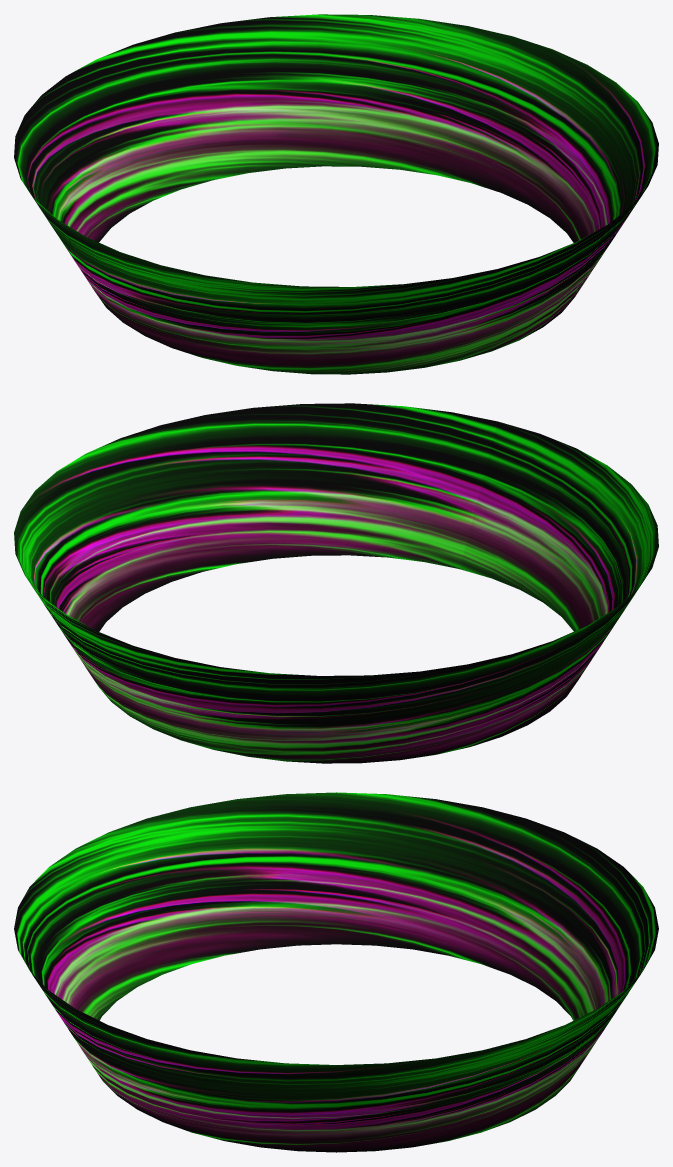
Rendered from Andrius_WindRange.fbx.
3 renders of one model, top to bottom at view 1: azimuth 30°, elevation 25°; view 2: azimuth 150°, elevation 25°; view 3: azimuth 270°, elevation 25°, orthographic.
Visible parts, largest first — view 1: Eff_Model_Ring_12_01; view 2: Eff_Model_Ring_12_01; view 3: Eff_Model_Ring_12_01.
Part boxes in pixels (box(x1,y1,x2,y2)): Eff_Model_Ring_12_01: box(14, 14, 658, 374); Eff_Model_Ring_12_01: box(14, 403, 658, 763); Eff_Model_Ring_12_01: box(14, 792, 658, 1152).
Bounding box in the file's own units: 81.84 × 16.75 × 81.84.
Materials: 1 (1 with a texture image).
